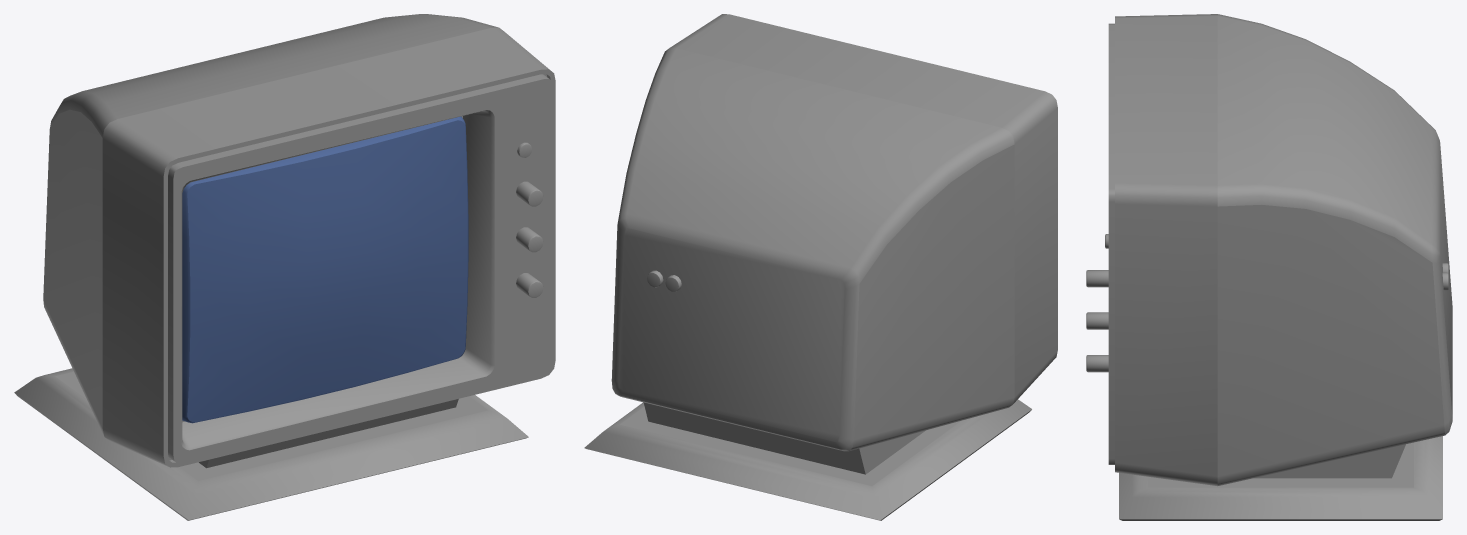
Rendered from computer 1 monitor.FBX.
The picture shows the model from 3 angles, left to right: view 1: azimuth 30°, elevation 25°; view 2: azimuth 150°, elevation 25°; view 3: azimuth 270°, elevation 25°; orthographic projection. The views are drawn at different scales.
Visible parts, largest first — view 1: Box090; view 2: Box090; view 3: Box090.
Boxes of the visible parts, x1=… form: Box090: x1=14, y1=14, x2=555, y2=520; Box090: x1=584, y1=14, x2=1057, y2=520; Box090: x1=1086, y1=14, x2=1452, y2=520.
Size of the model in its own units: 0.5993 by 0.5242 by 0.5076.
